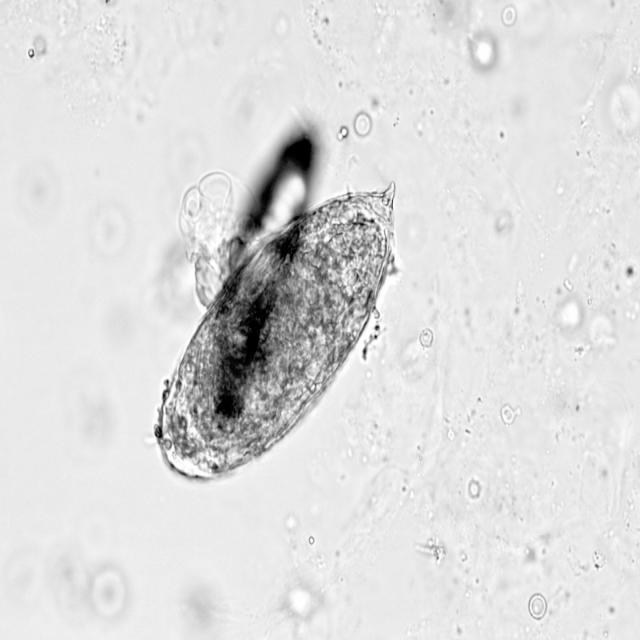Schistosoma: (152, 171, 399, 481)
